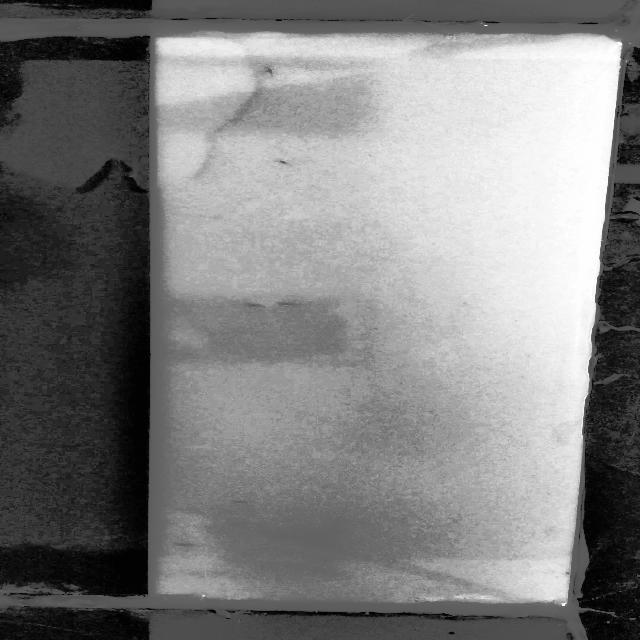shrimp: (272, 300, 304, 308), (241, 302, 271, 310), (275, 158, 295, 167), (175, 540, 193, 548), (262, 65, 274, 76), (229, 500, 251, 504)
